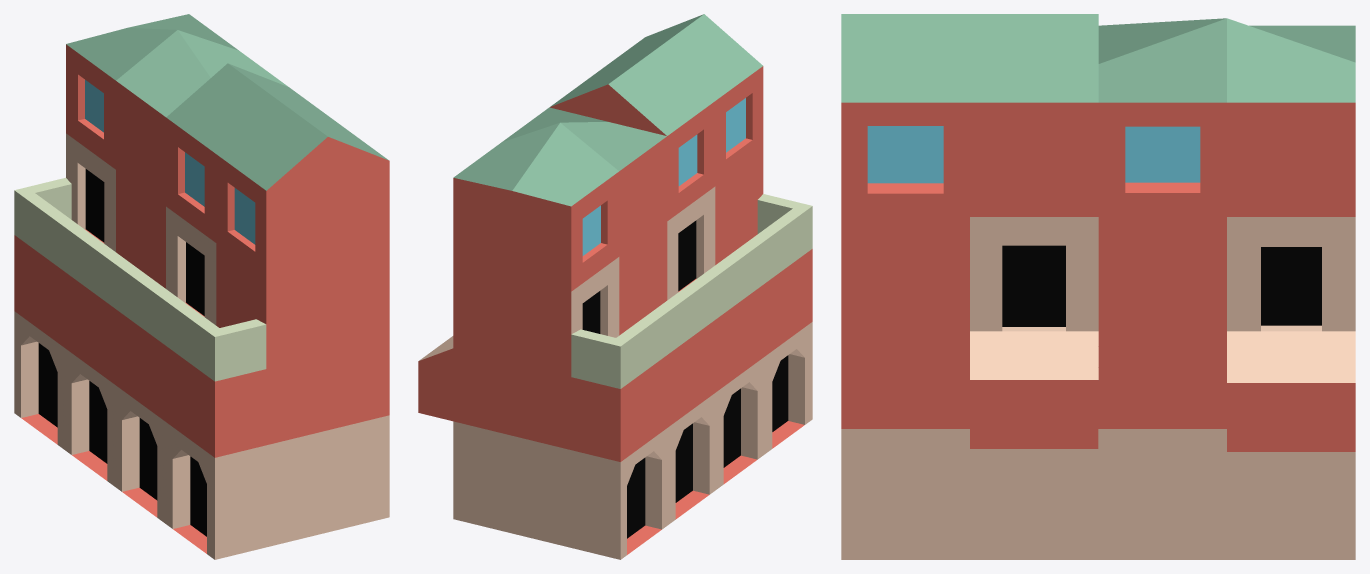
The model's file is House_02.fbx.
3 renders of one model, left to right at view 1: azimuth 30°, elevation 25°; view 2: azimuth 150°, elevation 25°; view 3: azimuth 270°, elevation 25°, orthographic. The views are drawn at different scales.
Visible parts, largest first — view 1: Building_10; view 2: Building_10; view 3: Building_10.
Part boxes in pixels (x1,y1,x2,y2): Building_10: (14, 14, 389, 559); Building_10: (418, 14, 812, 559); Building_10: (841, 14, 1355, 559).
Bounding box in the file's own units: 1974 × 3533 × 3246.
